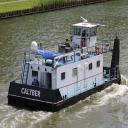tugboat: (8, 17, 123, 117)
